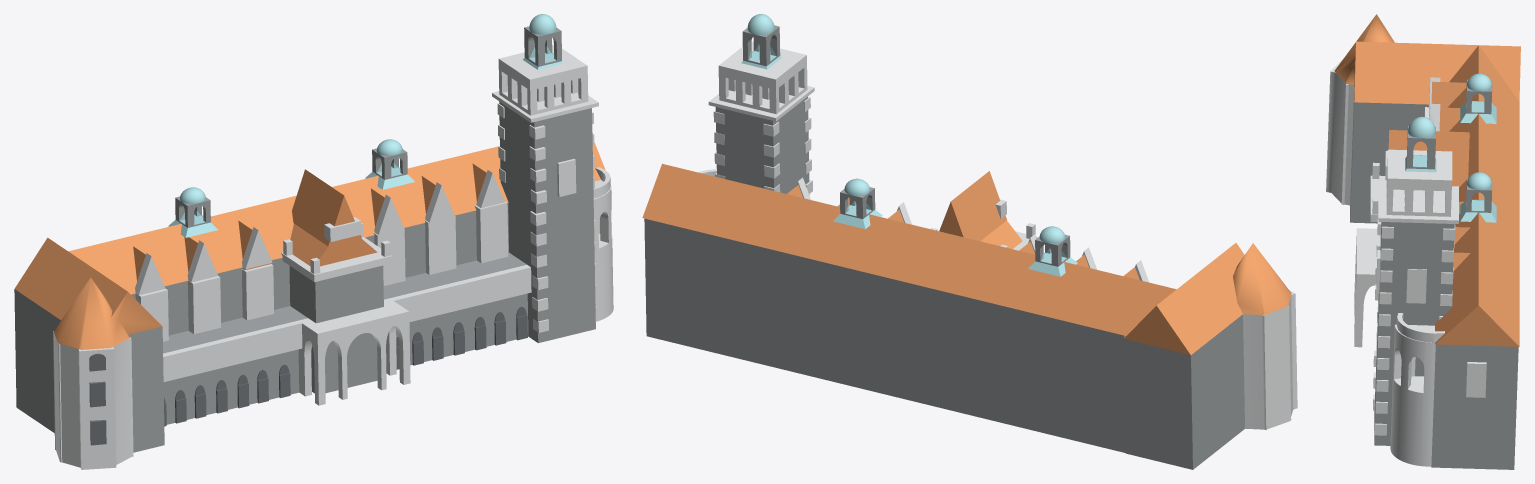
File: soarano.fbx
The picture shows the model from 3 angles, left to right: view 1: azimuth 30°, elevation 25°; view 2: azimuth 150°, elevation 25°; view 3: azimuth 270°, elevation 25°; orthographic projection. The views are drawn at different scales.
Parts seen in each view (by area): view 1: Object_5, Object_2, Object_3, Object_4, Object_6; view 2: Object_5, Object_3, Object_2, Object_6; view 3: Object_3, Object_5, Object_2, Object_6.
Boxes of the visible parts, x1,y1,x2,y2 form: Object_5: (14,26,595,452); Object_2: (53,45,613,469); Object_3: (14,142,605,349); Object_4: (89,306,527,445); Object_6: (168,14,563,237); Object_5: (644,25,1244,469); Object_3: (642,163,1291,355); Object_2: (698,41,1297,429); Object_6: (741,14,1077,276); Object_3: (1334,14,1520,346); Object_5: (1350,79,1518,469); Object_2: (1326,59,1486,466); Object_6: (1405,73,1496,222).
Bounding box in the file's own units: 17150 × 8679 × 4843.
